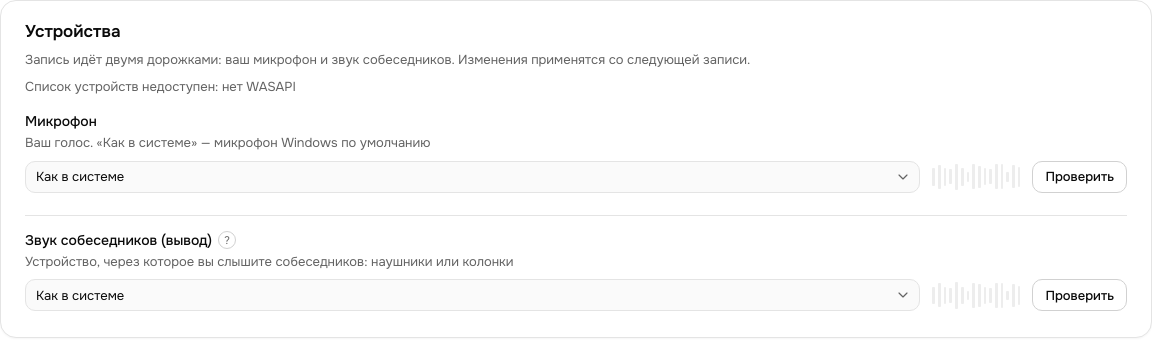
Test: список недоступен — только «Как в системе» и причина
This screenshot has width=1152, height=355.
Step 1. Click the dropdown named "Микрофон" → (80, 177), box [25,161,920,193]
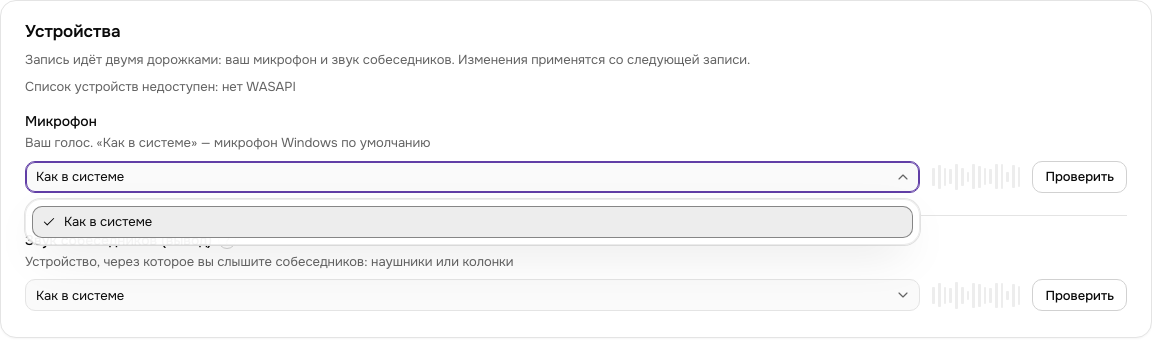
Check: the text "Список устройств недоступен: нет WASAPI" is shown, box [25,78,296,95]
Check: the number of options is 1, box [32,206,913,238]
